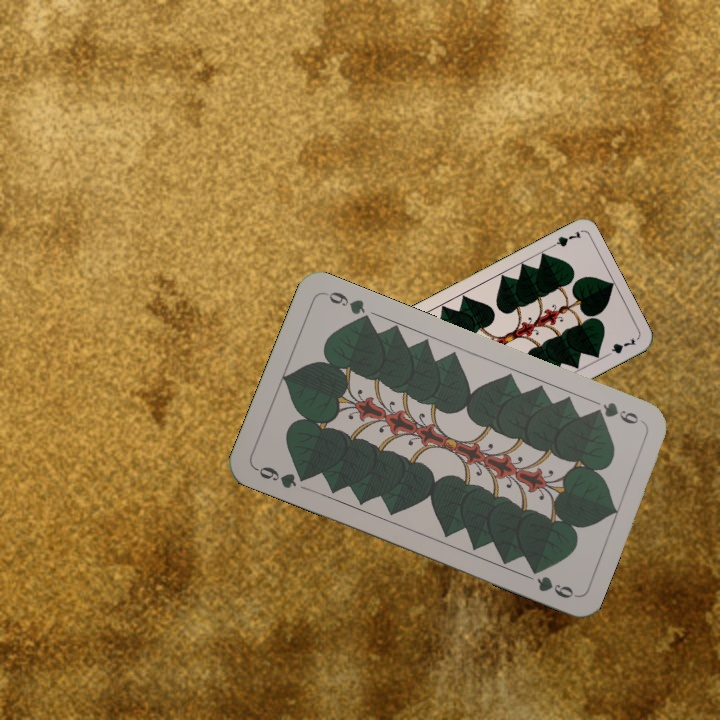G7: (544, 227, 584, 252)
G9: (251, 462, 311, 491), (588, 398, 646, 427)
